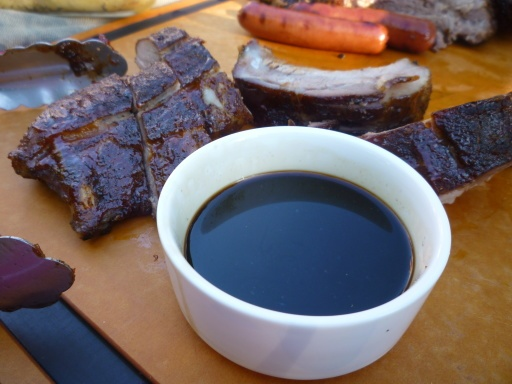background: (6, 16, 409, 144), (149, 88, 333, 189), (0, 46, 61, 187), (190, 0, 409, 33)
